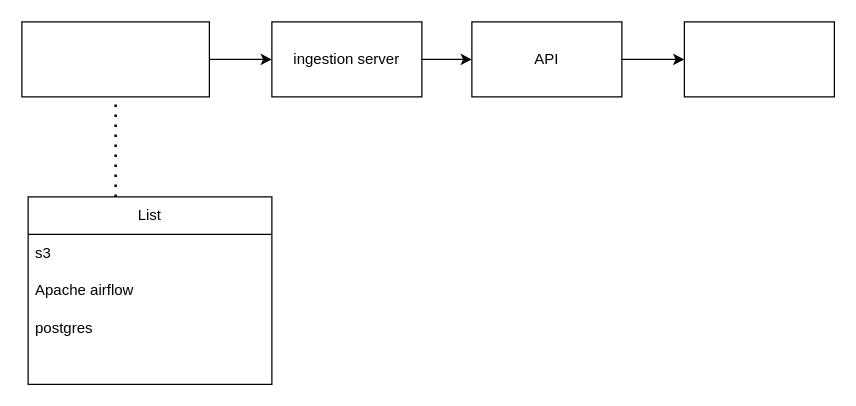
Some shapes in this 856 by 406 pixel diagram are drawn without their labels. Each missing label, with the centre of its shape:
"Catalog" goes at (x=115, y=59).
"frontend" goes at (x=758, y=59).
